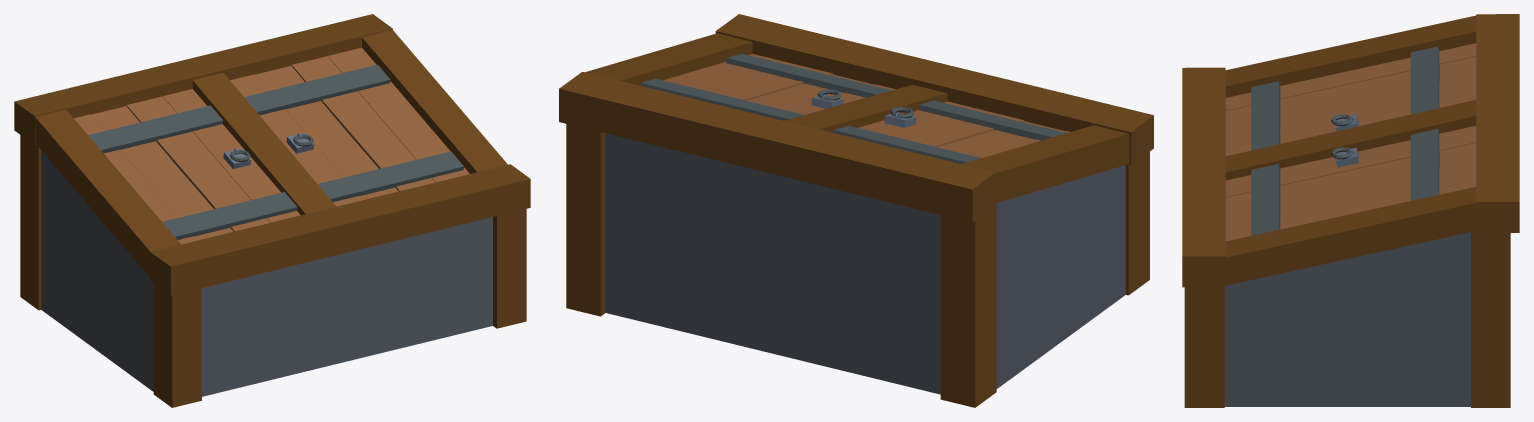
Rendered from Basement_01.fbx.
3 renders of one model, left to right at view 1: azimuth 30°, elevation 25°; view 2: azimuth 150°, elevation 25°; view 3: azimuth 270°, elevation 25°, orthographic. The views are drawn at different scales.
Visible parts, largest first — view 1: Basement_01; view 2: Basement_01; view 3: Basement_01.
Part boxes in pixels (x1,y1,x2,y2): Basement_01: (14, 14, 530, 407); Basement_01: (559, 14, 1153, 407); Basement_01: (1182, 14, 1519, 407).
Bounding box in the file's own units: 149 × 76.33 × 113.
